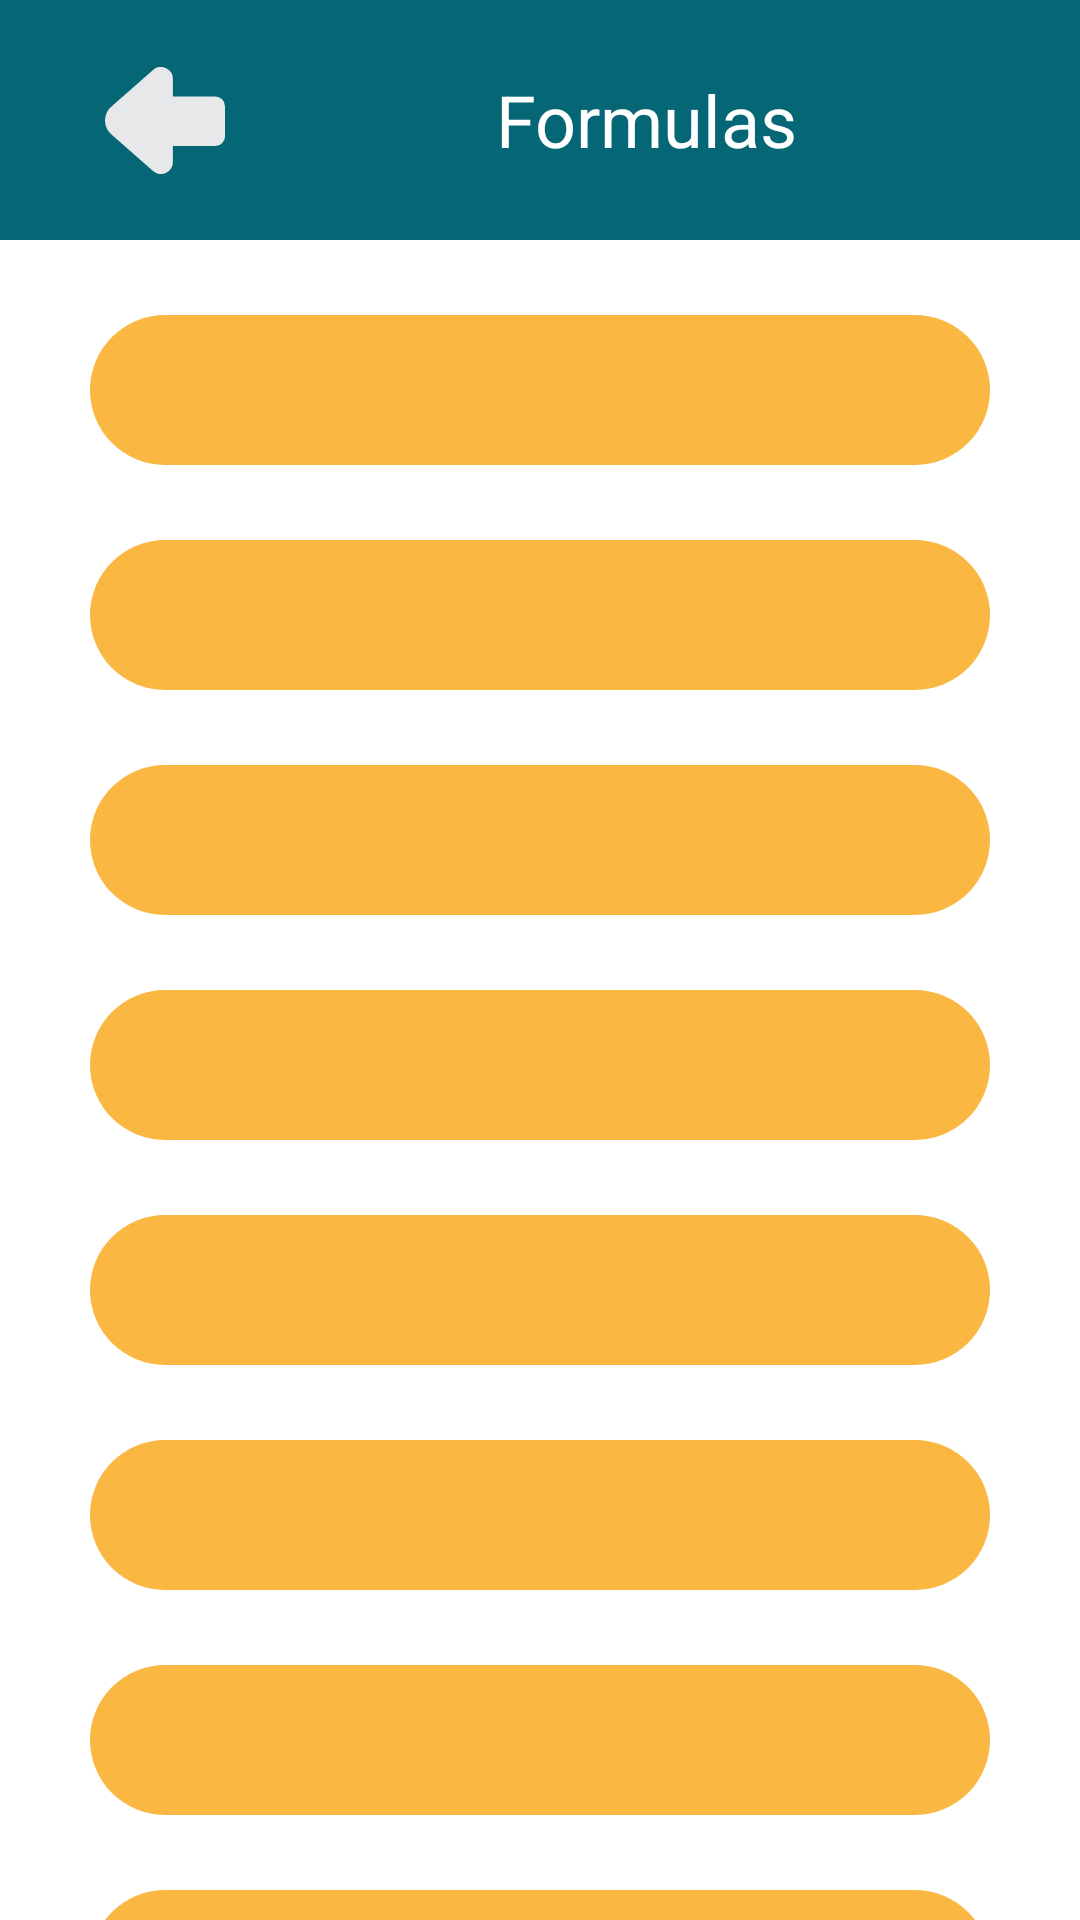

Icon bounding boxes for this 1080w x 1920h phone screenshot, format (x1,y1,x2,y2):
flechaatras: (105,67,225,174)
